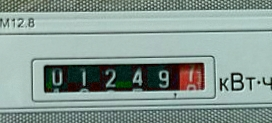0: (50, 66, 64, 86)
1: (77, 66, 89, 87)
2: (102, 66, 118, 88)
4: (131, 66, 144, 86)
7: (185, 62, 198, 82)
9: (157, 67, 170, 89)
screen: (28, 51, 219, 104)
